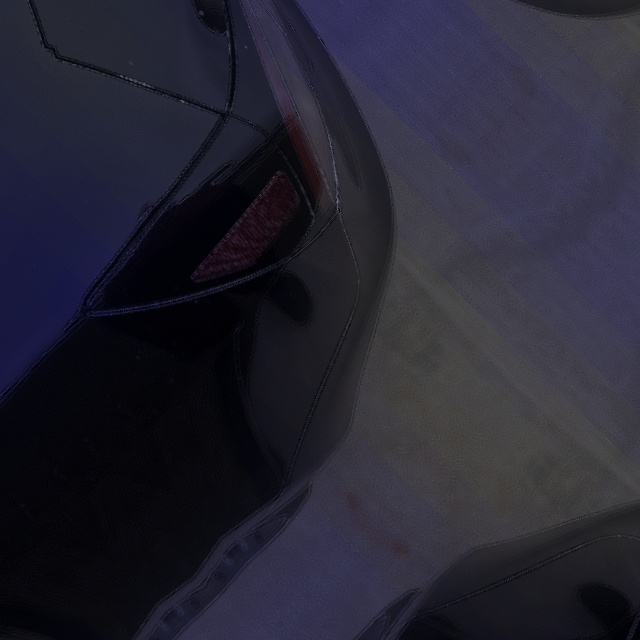reflector: (173, 160, 319, 308)
